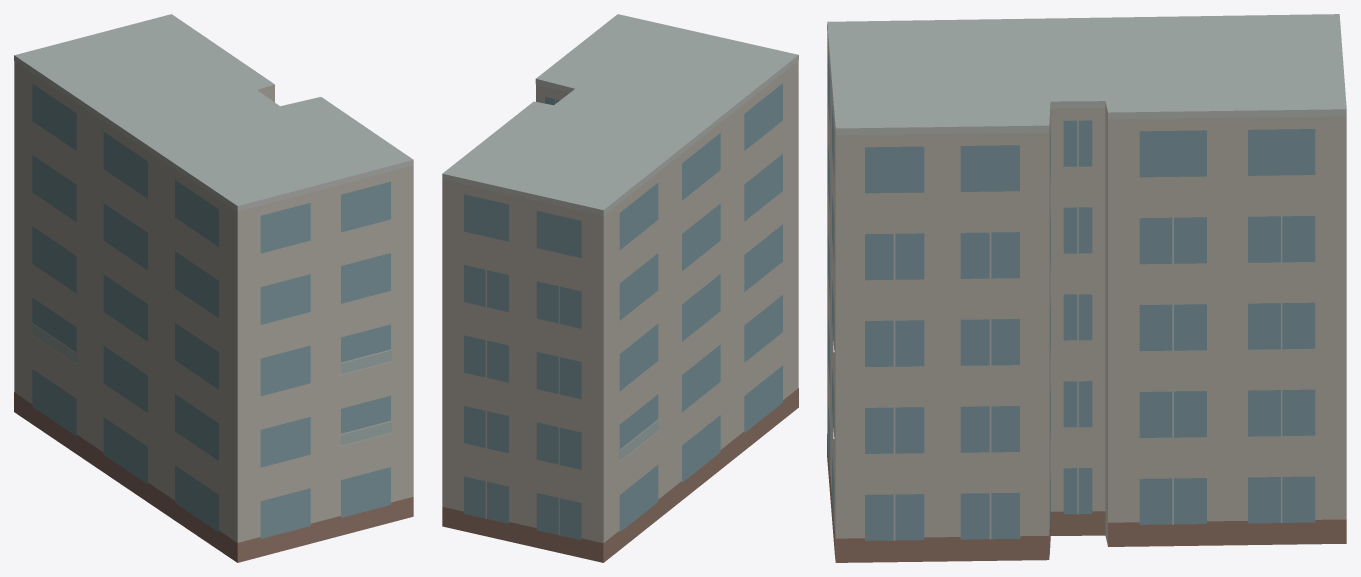
The model's file is survey-upis-32902046.glb.
3 renders of one model, left to right at view 1: azimuth 30°, elevation 25°; view 2: azimuth 150°, elevation 25°; view 3: azimuth 270°, elevation 25°, orthographic. The views are drawn at different scales.
Parts seen in each view (by area): view 1: survey-upis-32902046.tmp; view 2: survey-upis-32902046.tmp; view 3: survey-upis-32902046.tmp.
Boxes of the visible parts, x1,y1,x2,y2 form: survey-upis-32902046.tmp: (14, 14, 413, 562); survey-upis-32902046.tmp: (442, 14, 798, 562); survey-upis-32902046.tmp: (827, 14, 1346, 562).
Bounding box in the file's own units: 8.62 × 15.25 × 16.54.
